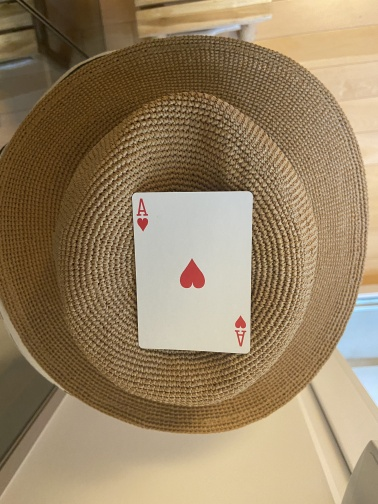ace: (131, 190, 255, 355)
